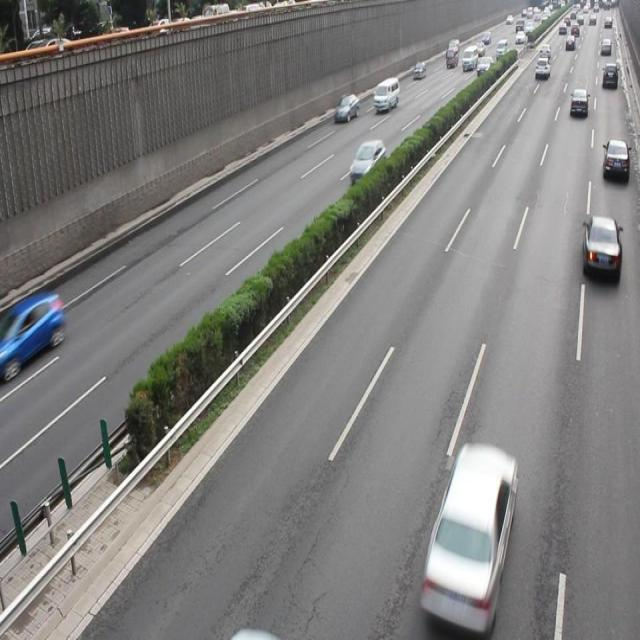car: (420, 442, 515, 616), (1, 288, 64, 366), (581, 215, 620, 280), (349, 139, 384, 181), (601, 138, 628, 184), (334, 92, 359, 124)
